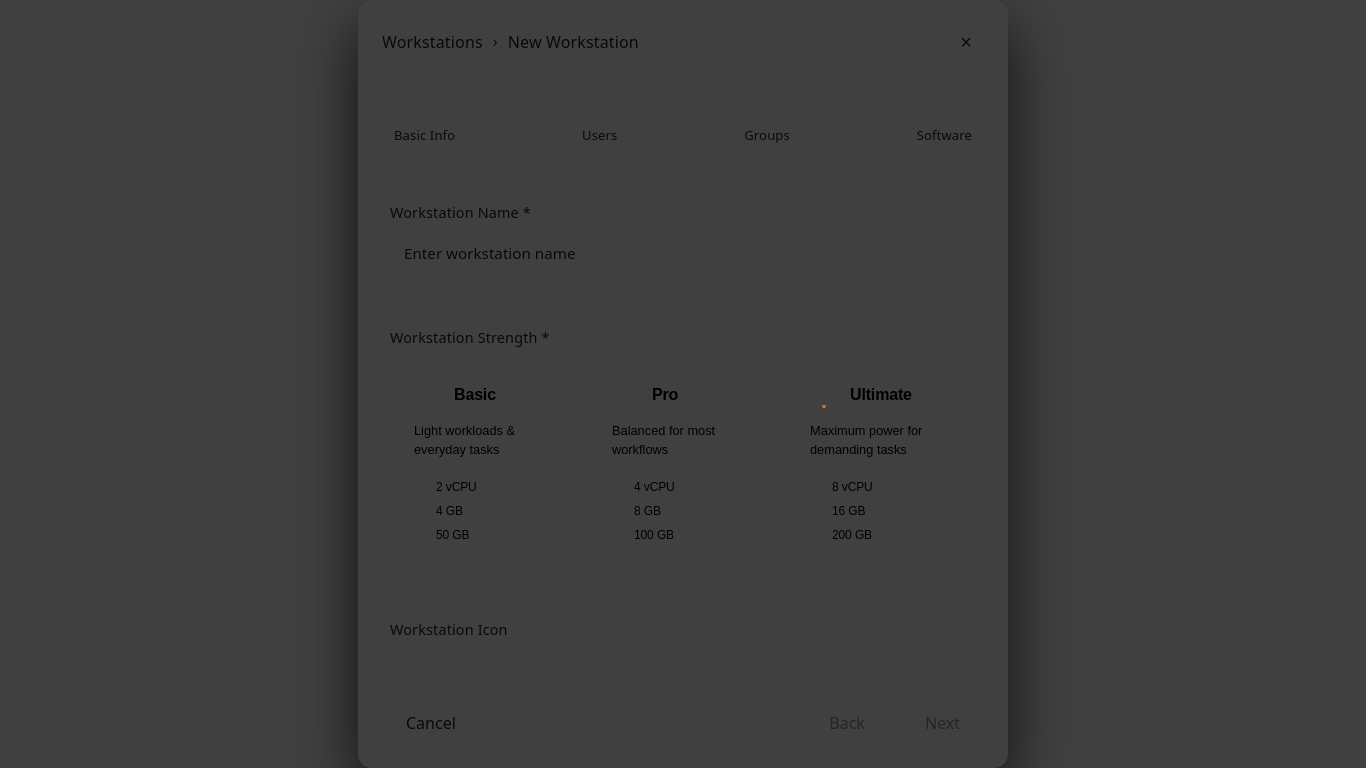
Test: WorkstationModal › Navigation › should enable Next button after entering name
The image size is (1366, 768).
Type "Test WS" into the field with placeholder "Enter workstation name". click: (681, 253)
box: [390, 231, 972, 275]
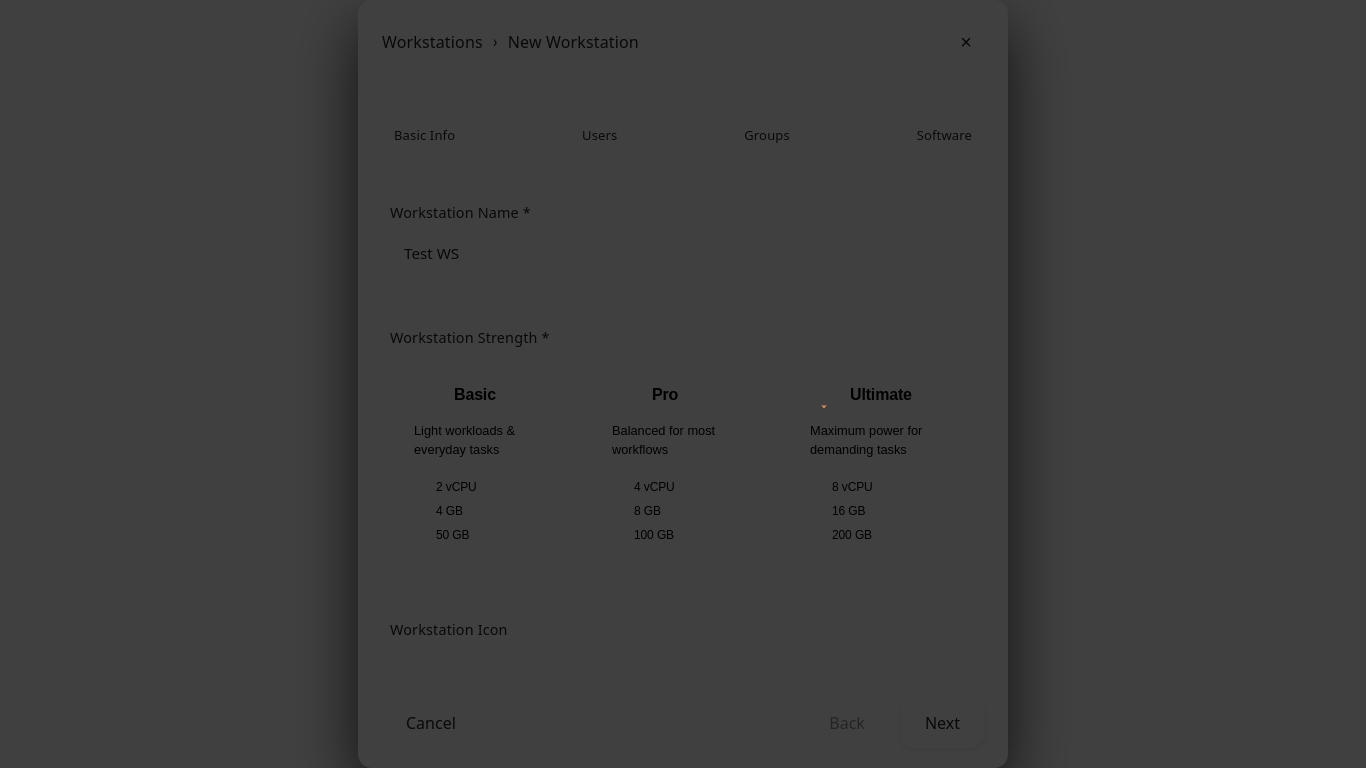
Expected: the button "Next" is enabled, [901, 698, 984, 748]
